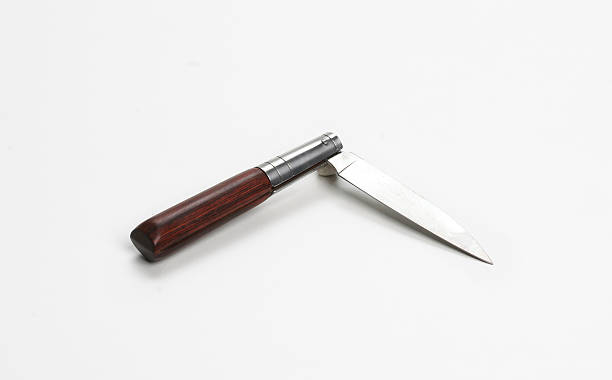knife: (336, 155, 495, 266)
